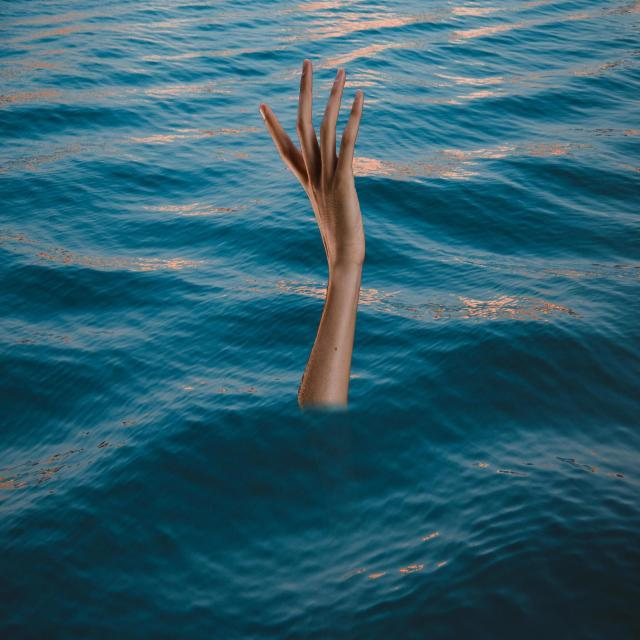Out of Water: (255, 54, 390, 422)
